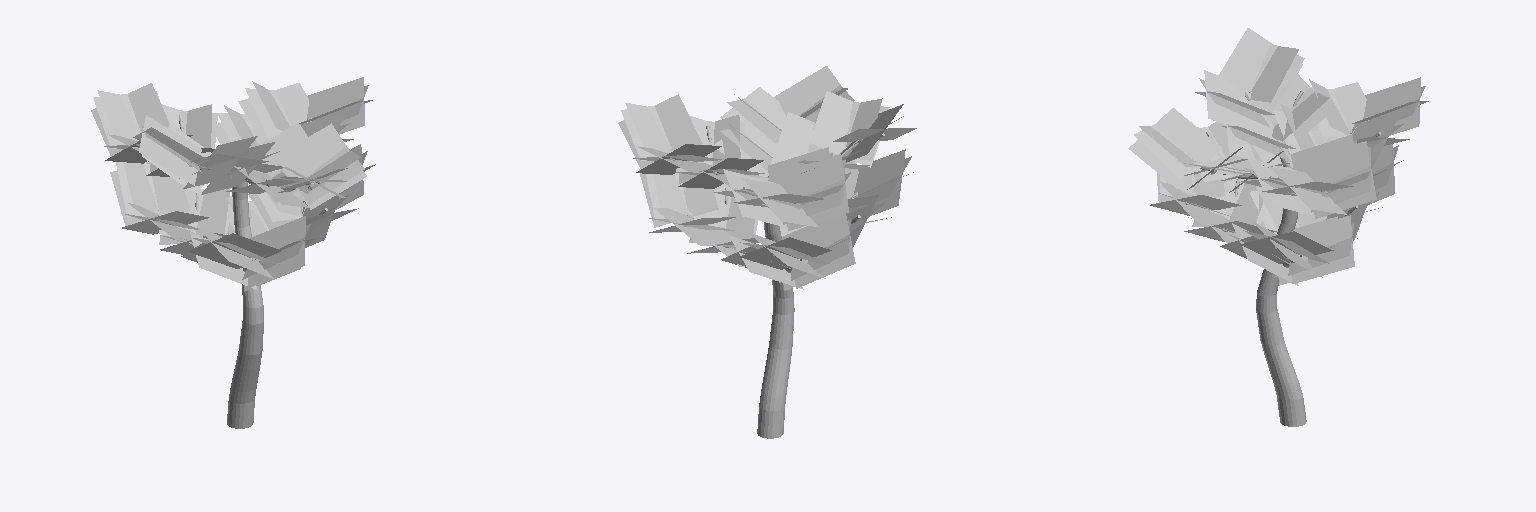
Rendered from Tree01.obj.
3 renders of one model, left to right at view 1: azimuth 30°, elevation 25°; view 2: azimuth 150°, elevation 25°; view 3: azimuth 270°, elevation 25°, orthographic.
Visible parts, largest first — view 1: pPlane68; view 2: pPlane68; view 3: pPlane68.
Part boxes in pixels (bbox=[...]): pPlane68: bbox=[91, 77, 375, 428]; pPlane68: bbox=[618, 66, 916, 438]; pPlane68: bbox=[1128, 28, 1428, 426].
Size of the model in its own units: 14.32 by 17.32 by 14.03.